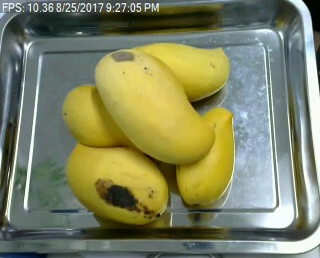Mango: (93, 48, 216, 164), (65, 141, 170, 224), (116, 44, 231, 100), (176, 105, 235, 206), (62, 81, 144, 152)
